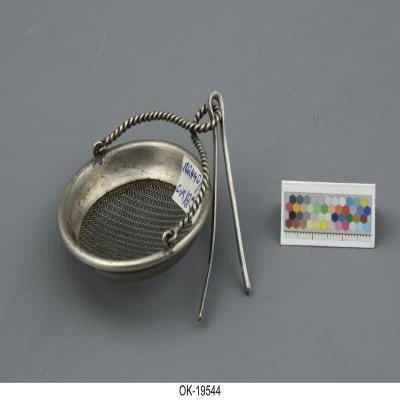dpi: (58, 92, 252, 319)
